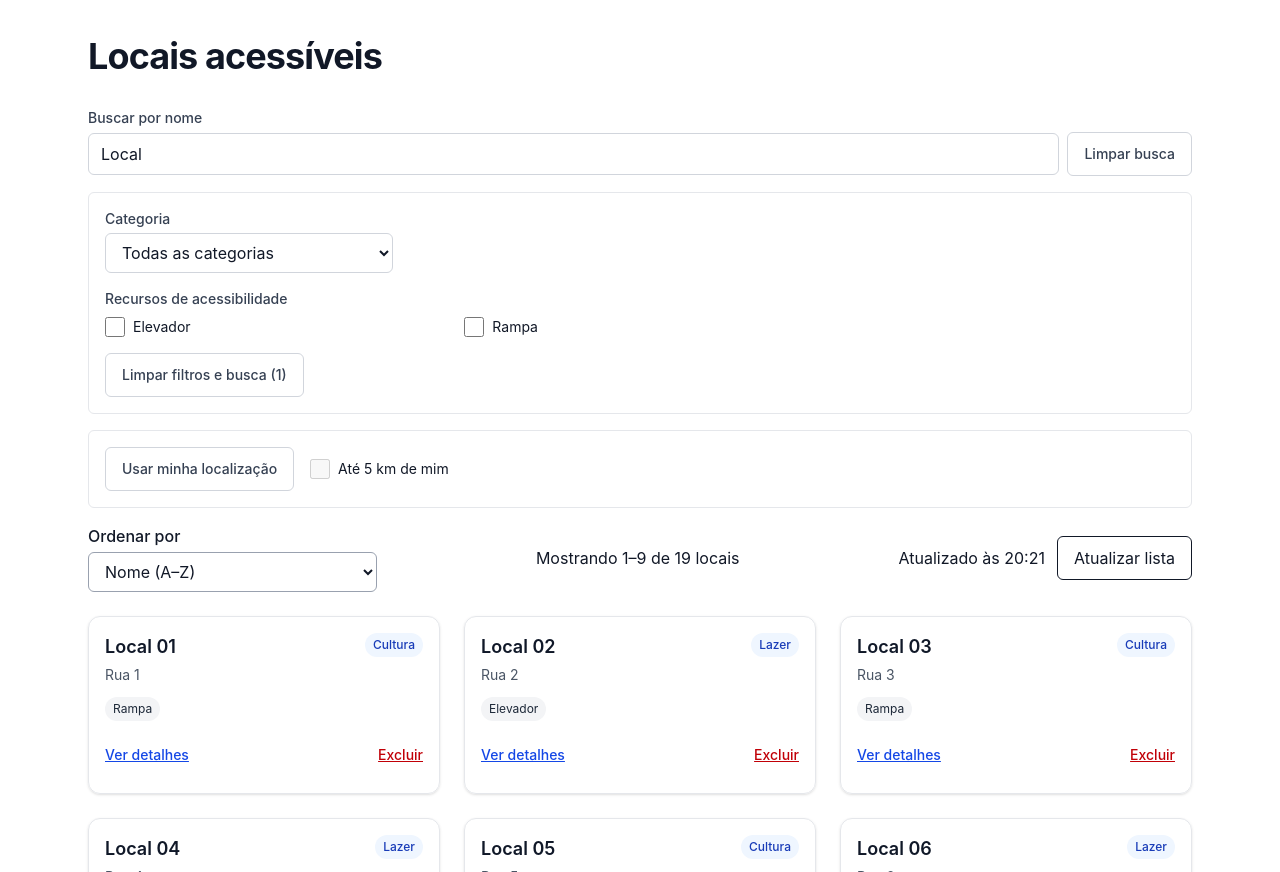
Test: Paginação integrada à listagem › corrige a página após excluir o último card sem perder filtros, ordem ou cache
Check: the heading "Local 01" is shown, box [105, 633, 176, 661]
Select "Nome (Z–A)" in the dropdown labelled "Ordenar por" at (232, 572), box [88, 552, 377, 592]
(page scrolled)
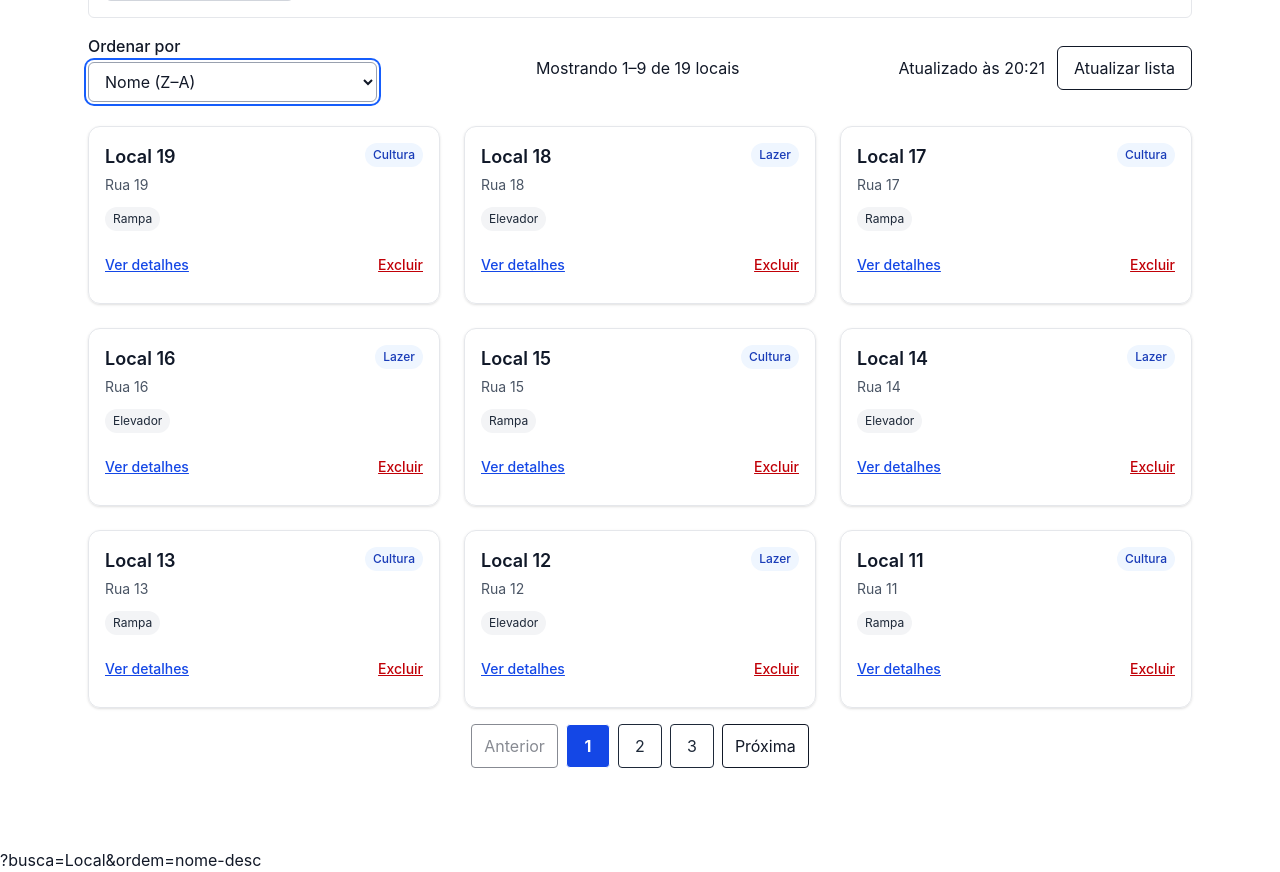
Click the button named "Página 3" at (692, 746), box [670, 724, 714, 768]
(page scrolled)
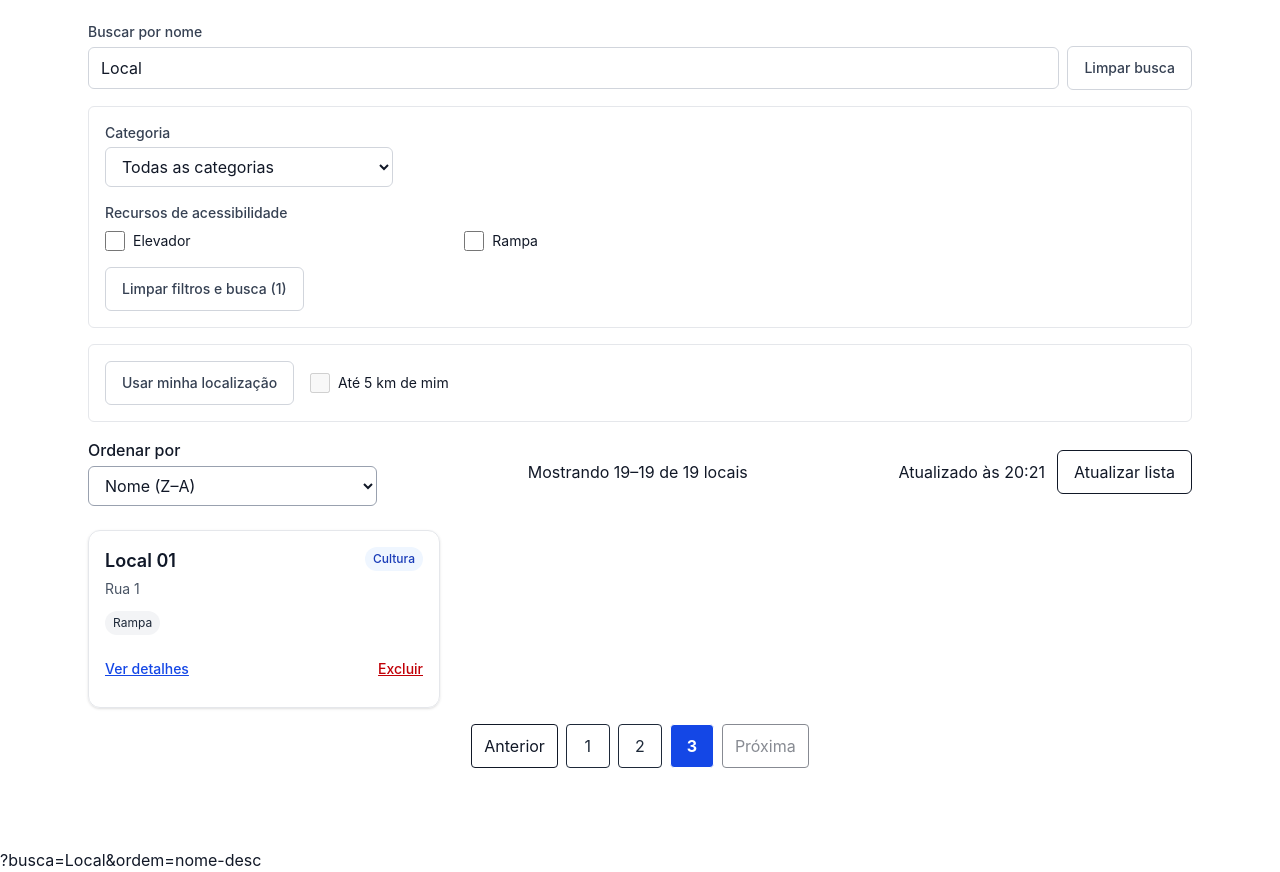
Click the button with aria-label "Excluir Local 01" at (401, 669), box [378, 647, 423, 691]
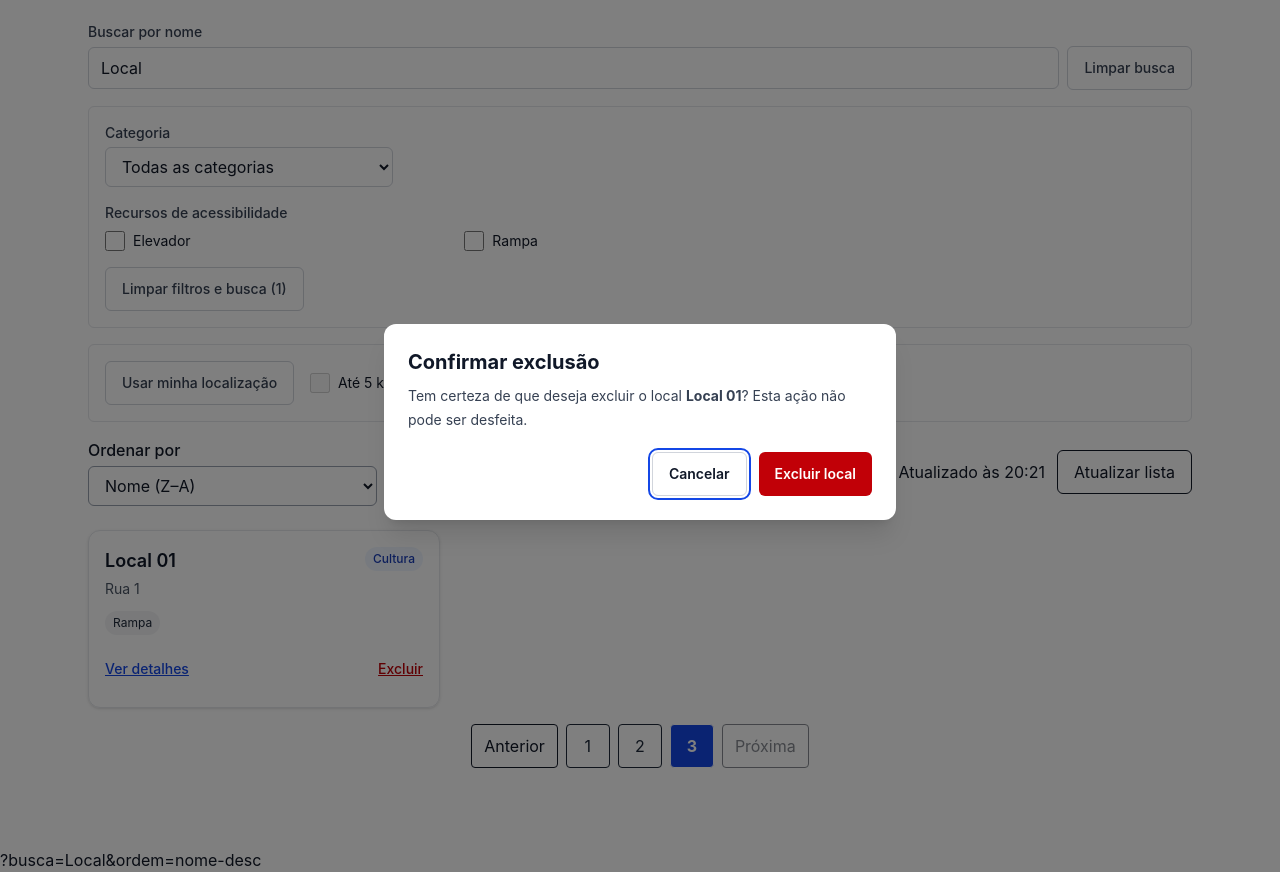
Click the button "Excluir local" at (815, 474), box [758, 452, 872, 496]
(page scrolled)
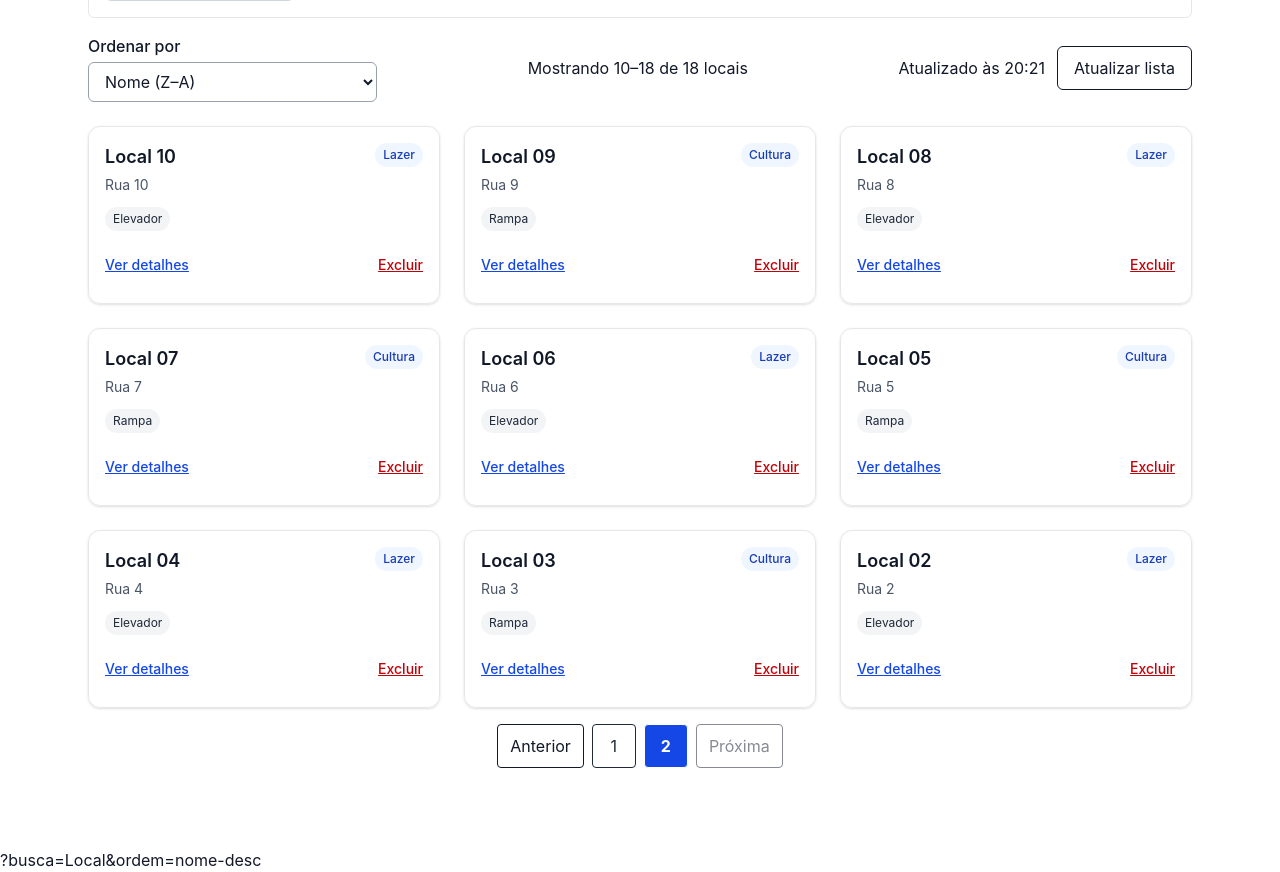
Check: the heading "Local 01" is not shown
Check: the text "Mostrando 10–18 de 18 locais" is shown, box [528, 56, 748, 80]
